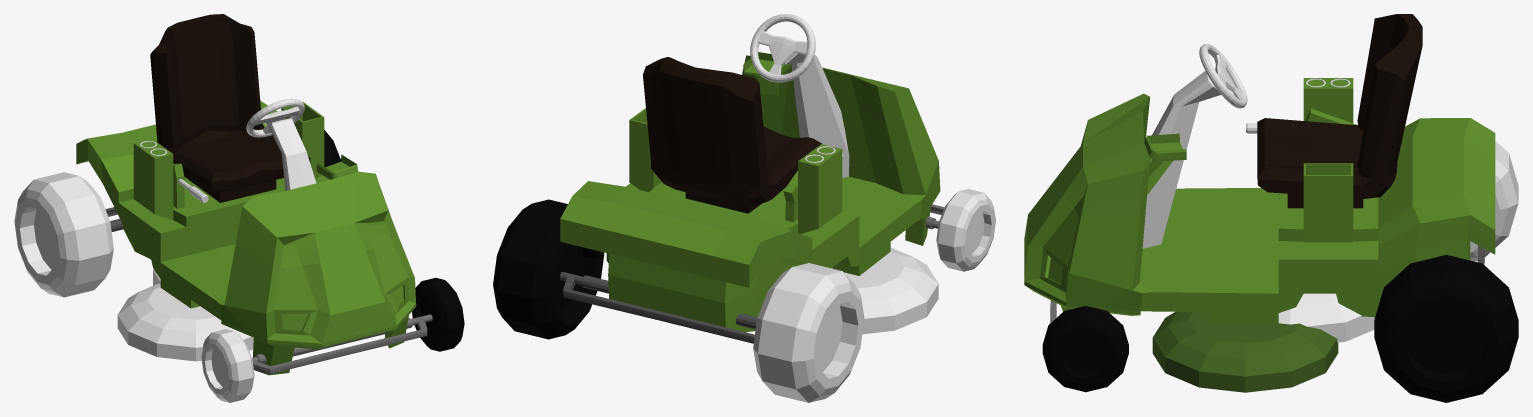
File: Lawnmover_Main.fbx
The picture shows the model from 3 angles, left to right: view 1: azimuth 30°, elevation 25°; view 2: azimuth 150°, elevation 25°; view 3: azimuth 270°, elevation 25°; orthographic projection. The views are drawn at different scales.
Parts seen in each view (by area): view 1: holder, chair, back whil.001, right cutter, bad front whil.003, bad front whil.002, bad front while cylinder, stiring pole, stiring whil, back whil; view 2: holder, chair, back whil.001, back whil, right cutter, bad front whil.003, stiring pole, back while cylinder, stiring whil; view 3: holder, back whil, chair, left cutter, bad front whil.002, stiring pole, big cutter, back whil.001, stiring whil.
Part boxes in pixels (x1,y1,x2,y2): holder: (76, 101, 416, 375); chair: (150, 14, 310, 202); back whil.001: (14, 172, 113, 297); right cutter: (117, 283, 253, 361); bad front whil.003: (201, 329, 254, 402); bad front whil.002: (412, 277, 464, 351); bad front while cylinder: (252, 314, 432, 373); stiring pole: (269, 118, 316, 190); stiring whil: (246, 98, 304, 137); back whil: (324, 130, 340, 167); holder: (560, 52, 940, 332); chair: (643, 57, 821, 213); back whil.001: (753, 263, 864, 402); back whil: (493, 199, 604, 339); right cutter: (846, 247, 938, 334); bad front whil.003: (936, 189, 995, 271); stiring pole: (783, 53, 849, 177); back while cylinder: (559, 272, 757, 343); stiring whil: (750, 14, 815, 82); holder: (1024, 78, 1495, 323); back whil: (1374, 255, 1518, 402); chair: (1257, 14, 1422, 208); left cutter: (1152, 311, 1338, 392); bad front whil.002: (1042, 306, 1128, 392); stiring pole: (1142, 71, 1221, 248); big cutter: (1278, 293, 1374, 342); back whil.001: (1470, 141, 1518, 261); stiring whil: (1199, 44, 1247, 108).
Size of the model in its own units: 3184 by 2693 by 4026.
